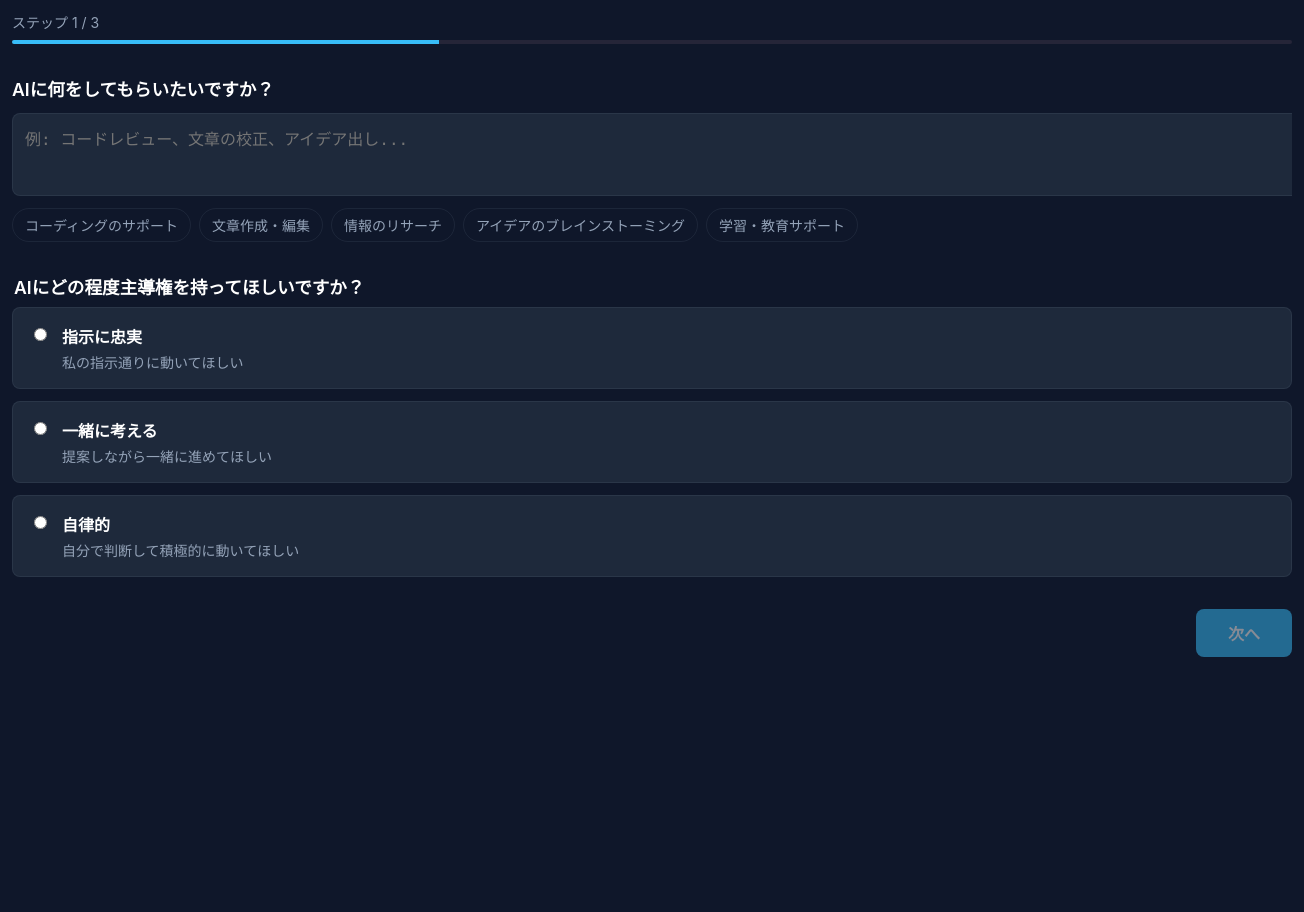
Scenario: DiagnoseFlow › エラーハンドリング › エラーメッセージを表示する
This screenshot has width=1304, height=912.
Type "テスト" into the text box labelled "AIに何をしてもらいたいですか？".
click(652, 154); type("テスト")  # box [12,113,1292,196]
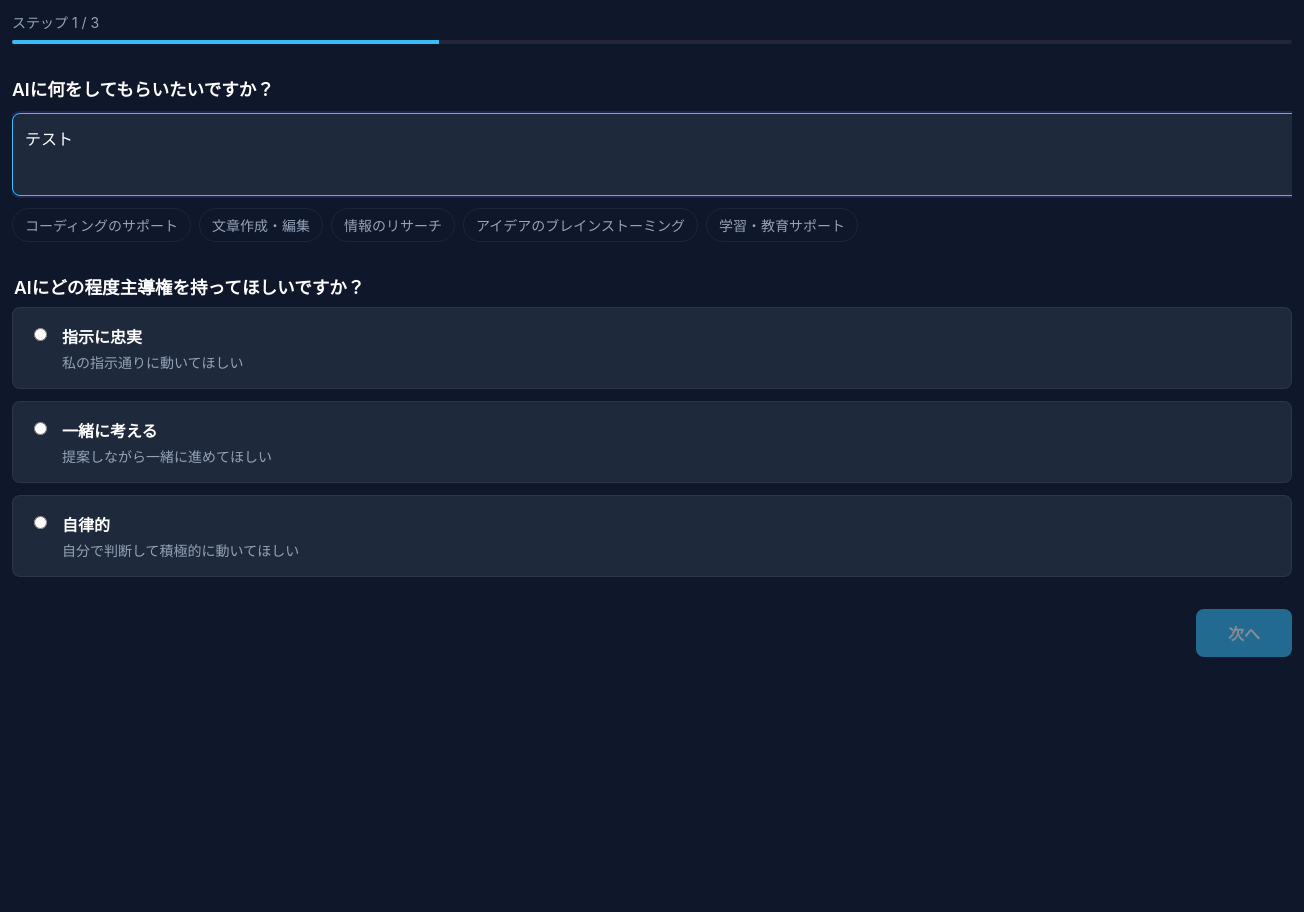
Click the text "指示に忠実".
click(102, 337)  # box [62,327,142,347]
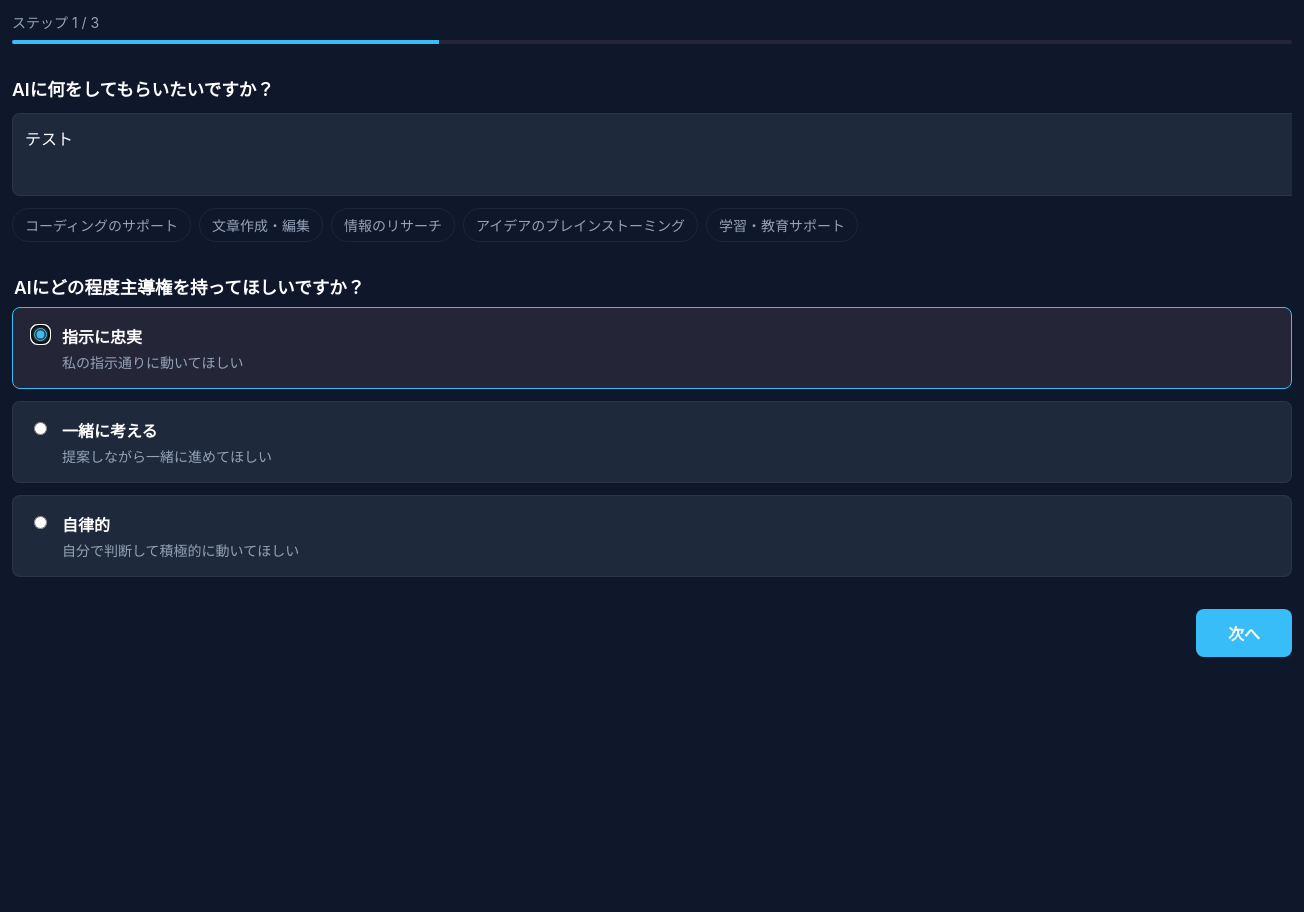
Click the button "次へ".
click(1244, 633)  # box [1196,609,1292,657]
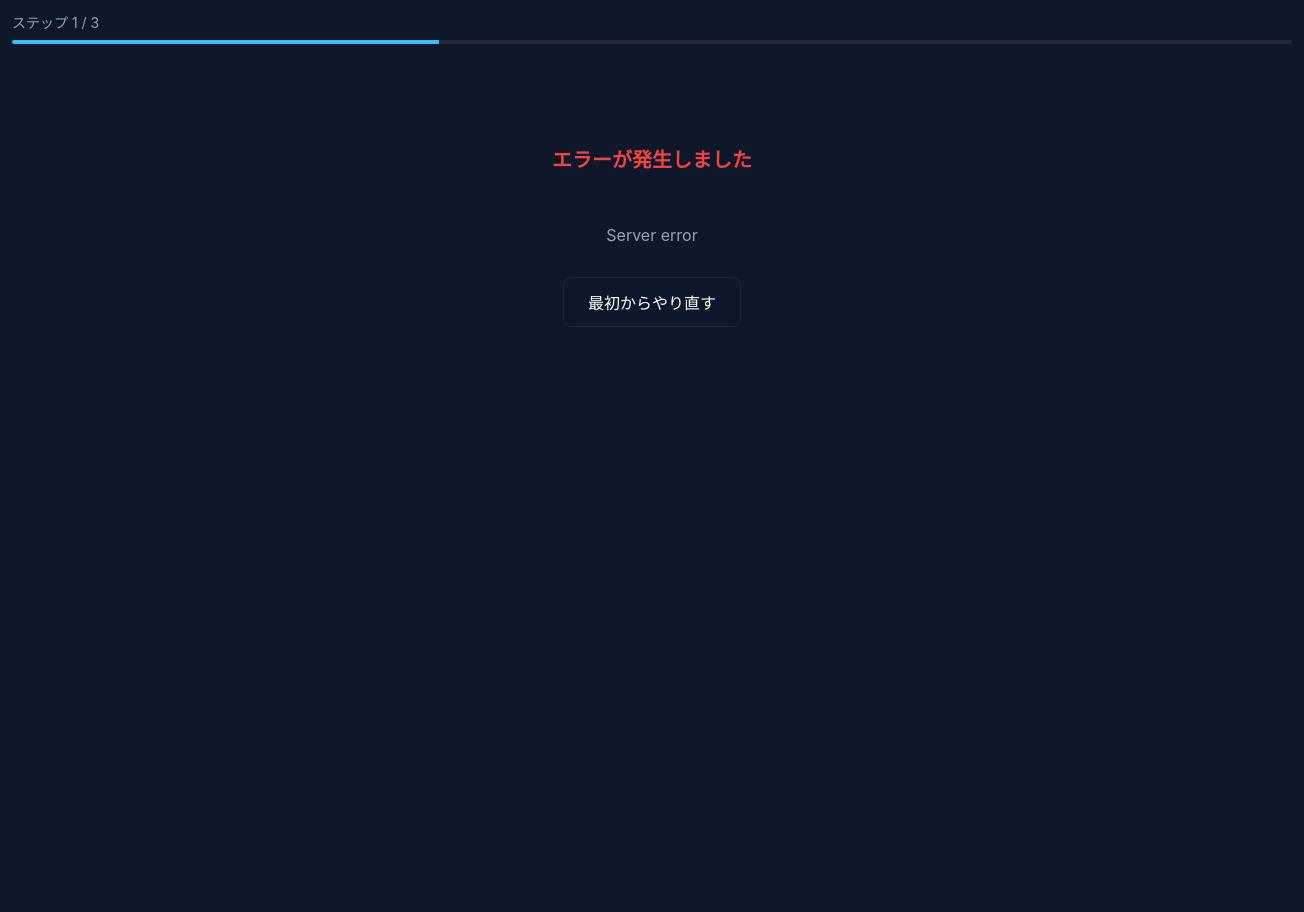
Expected: the text "エラーが発生しました" is shown, [552,144,752,173]
